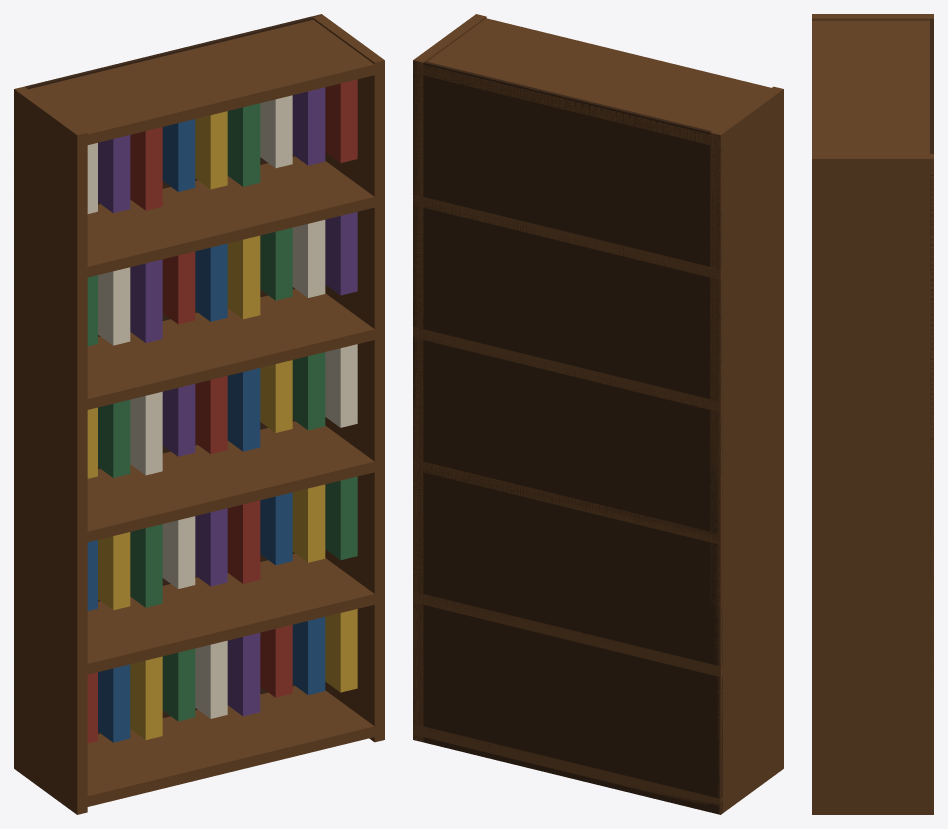
File: bookcase.glb
The picture shows the model from 3 angles, left to right: view 1: azimuth 30°, elevation 25°; view 2: azimuth 150°, elevation 25°; view 3: azimuth 270°, elevation 25°; orthographic projection. The views are drawn at different scales.
Visible parts, largest first — view 1: bookcase; view 2: bookcase; view 3: bookcase.
Part boxes in pixels (x1,y1,x2,y2): bookcase: [14, 14, 384, 814]; bookcase: [413, 14, 783, 814]; bookcase: [812, 14, 933, 814].
Size of the model in its own units: 0.9 by 1.9 by 0.32.
